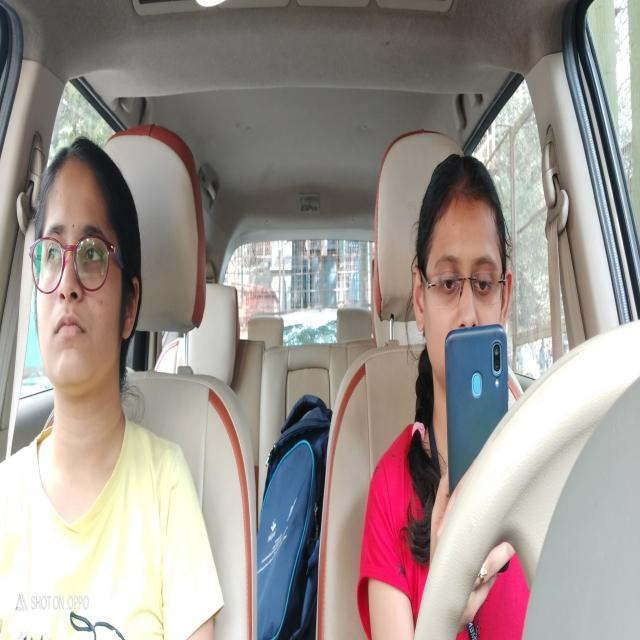mobile: (441, 324, 512, 475)
person: (30, 133, 145, 397), (410, 147, 517, 375)
